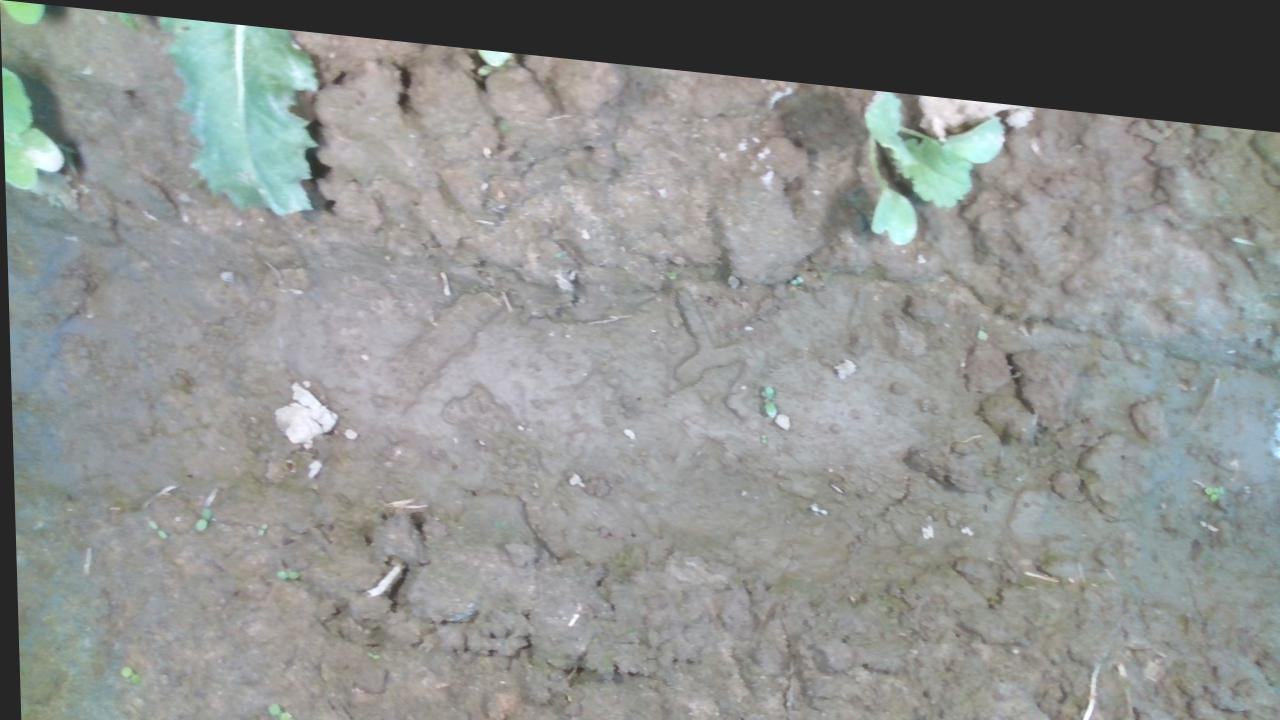weed: (753, 364, 778, 402), (1200, 453, 1235, 477), (188, 499, 206, 530), (140, 514, 164, 536), (270, 554, 297, 572), (786, 251, 807, 266), (502, 712, 530, 719)
